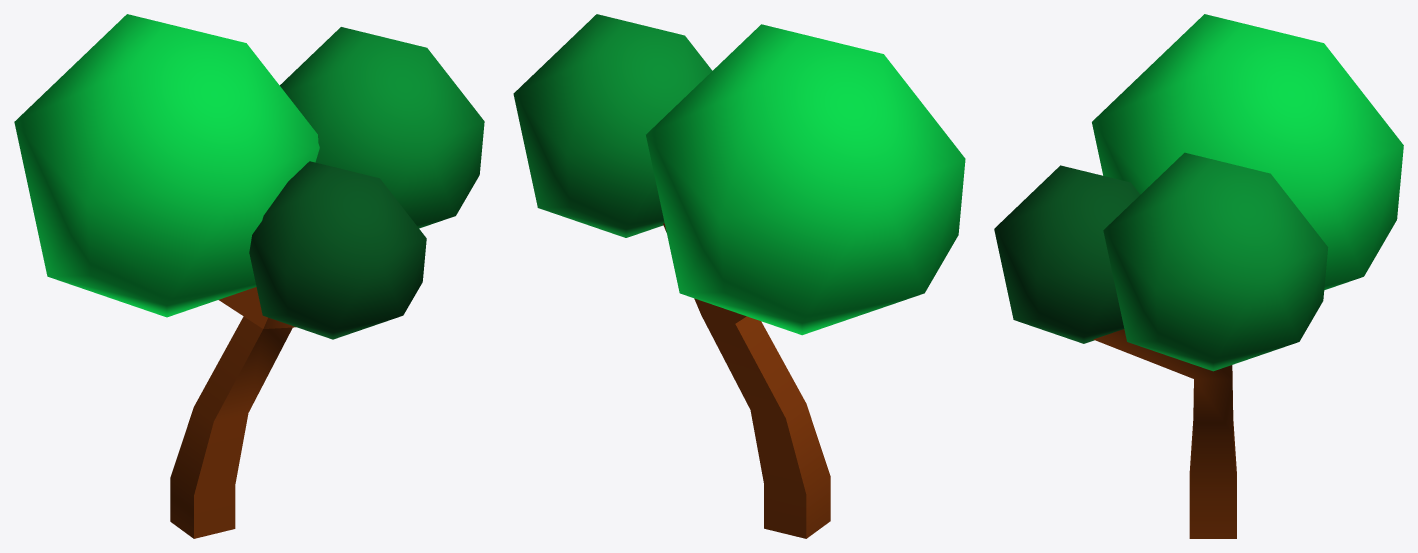
The model's file is Tree 2.fbx.
3 renders of one model, left to right at view 1: azimuth 30°, elevation 25°; view 2: azimuth 150°, elevation 25°; view 3: azimuth 270°, elevation 25°, orthographic. The views are drawn at different scales.
Visible parts, largest first — view 1: Kugel_1, Kugel, Kugel_3, Würfel; view 2: Kugel_1, Kugel, Würfel; view 3: Kugel_1, Kugel, Kugel_3, Würfel.
Part boxes in pixels (box(x1,y1,x2,y2)): Kugel_1: box(14, 14, 319, 317); Kugel: box(280, 27, 484, 228); Kugel_3: box(249, 161, 426, 339); Würfel: box(170, 287, 295, 538); Kugel_1: box(646, 24, 965, 335); Kugel: box(513, 14, 712, 237); Würfel: box(663, 223, 830, 538); Kugel_1: box(1092, 14, 1403, 289); Kugel: box(1103, 152, 1328, 371); Kugel_3: box(994, 165, 1139, 343); Würfel: box(1093, 329, 1236, 538).
Size of the model in its own units: 191 by 229 by 172.
